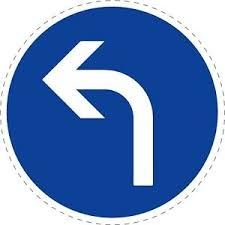left: (39, 36, 176, 196)
